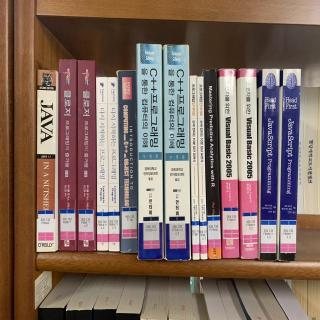book-spine: (136, 43, 163, 260), (164, 44, 190, 260), (278, 69, 302, 262), (259, 69, 280, 261), (219, 69, 239, 258), (36, 70, 56, 252), (77, 60, 95, 251), (203, 69, 221, 259), (119, 70, 137, 253), (59, 60, 76, 250), (241, 69, 258, 259), (196, 77, 208, 259), (96, 77, 108, 250), (189, 76, 200, 260), (108, 77, 119, 252)
